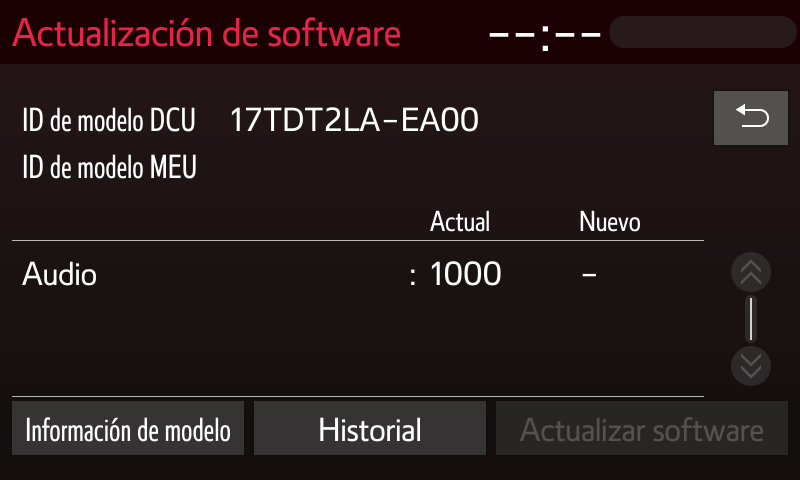touchPart: (11, 398, 249, 458), (251, 400, 489, 458), (709, 84, 794, 151), (729, 245, 776, 293)
untouchPart: (18, 97, 706, 398), (493, 399, 792, 462), (15, 4, 404, 51), (482, 9, 795, 50), (722, 343, 788, 389)
